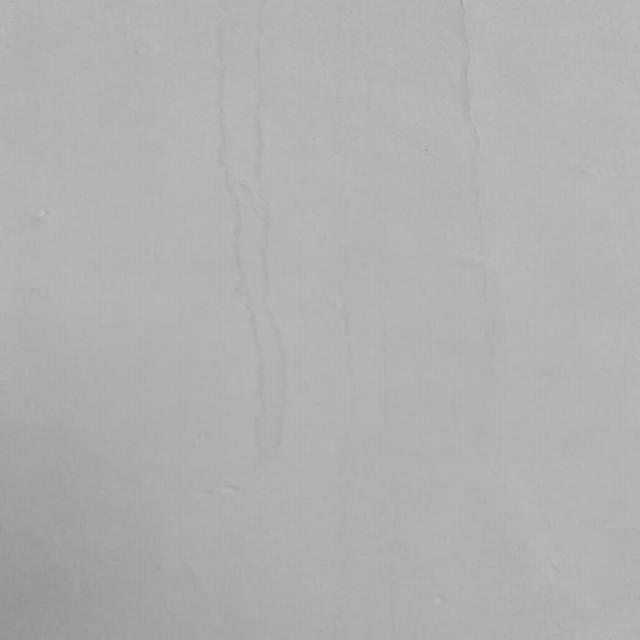stain marks: (196, 0, 299, 476), (446, 0, 485, 262)
